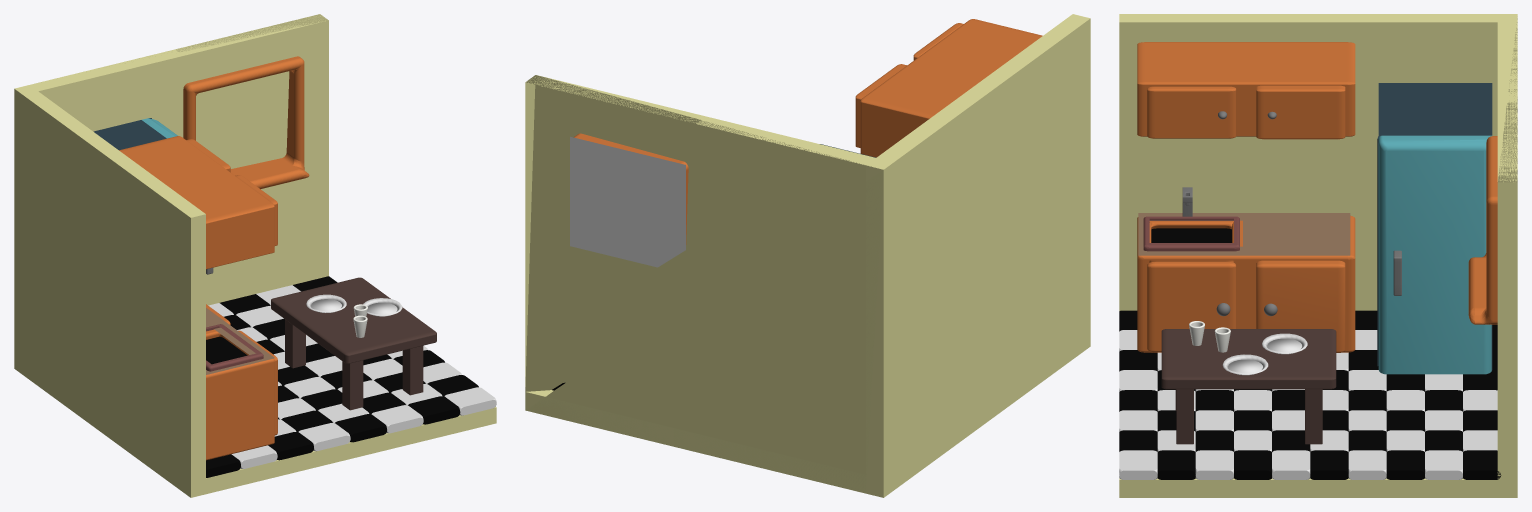
File: uploads_files_4800514_kitchen.fbx
3 views of the same model, side by side, from view 1: azimuth 30°, elevation 25°; view 2: azimuth 150°, elevation 25°; view 3: azimuth 270°, elevation 25° (orthographic). The views are drawn at different scales.
Visible parts, largest first — view 1: Plane, Plane.001, Plane.006, Plane.015, Plane.003, Plane.025, Plane.002, Plane.019, Plane.016, Plane.021, Plane.018, Plane.011 (+3 smaller); view 2: Plane, Plane.026, Plane.006, Plane.025, Plane.020; view 3: Plane, Plane.001, Plane.022, Plane.006, Plane.015, Plane.002, Plane.024, Plane.004, Plane.003, Plane.021, Plane.020, Plane.007 (+7 smaller).
Boxes of the visible parts, x1,y1,x2,y2 form: Plane: (14,14,496,497); Plane.001: (206,276,496,477); Plane.006: (119,136,274,269); Plane.015: (271,277,436,363); Plane.003: (206,329,274,460); Plane.025: (183,56,309,189); Plane.002: (93,118,166,150); Plane.019: (342,360,363,410); Plane.016: (402,346,423,395); Plane.021: (206,308,274,374); Plane.018: (285,319,305,368); Plane.011: (206,336,247,364); Plane: (525,14,1090,497); Plane.026: (570,136,685,267); Plane.006: (860,19,1042,157); Plane.025: (573,133,688,244); Plane.020: (855,64,906,147); Plane: (1119,14,1517,497); Plane.001: (1119,310,1501,479); Plane.022: (1378,135,1491,374); Plane.006: (1137,42,1355,136); Plane.015: (1161,329,1336,389); Plane.002: (1377,83,1492,370); Plane.024: (1256,260,1345,352); Plane.004: (1147,262,1236,352); Plane.003: (1137,215,1355,352); Plane.021: (1138,213,1350,255); Plane.020: (1256,85,1345,139); Plane.007: (1147,86,1236,138).
Size of the model in its own units: 800 by 700 by 800.
